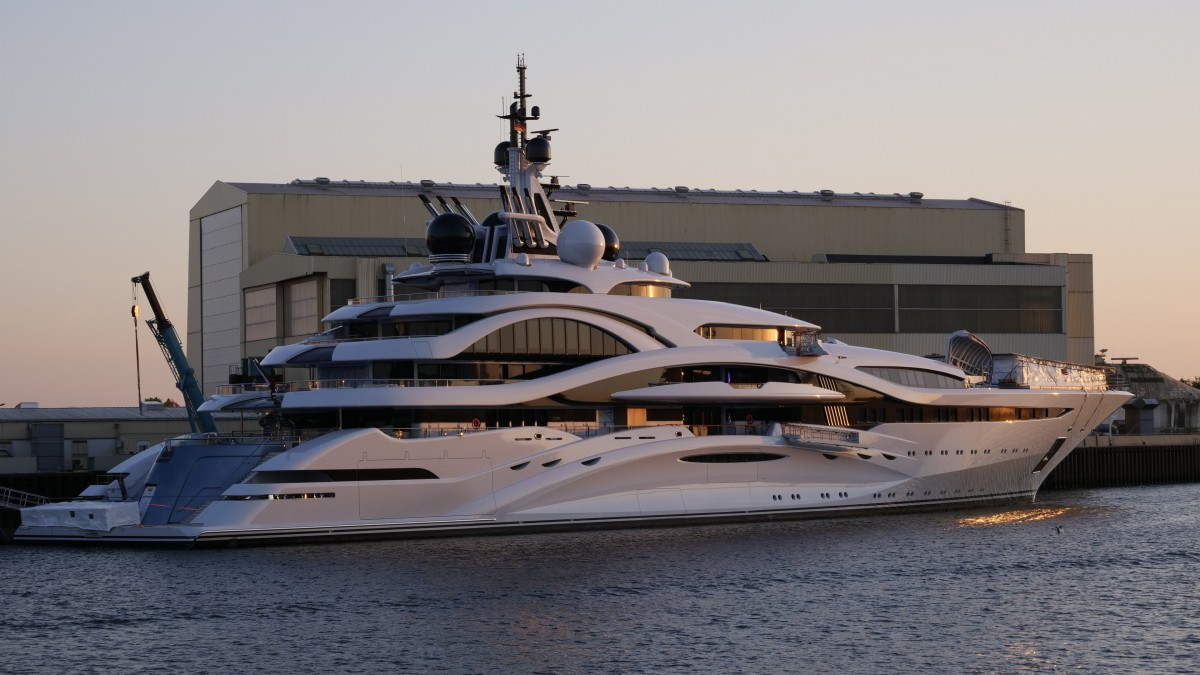yacht: (50, 48, 1134, 549)
